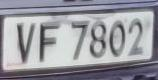0: (108, 16, 128, 63)
2: (127, 15, 147, 62)
7: (66, 19, 91, 65)
8: (87, 18, 110, 64)
F: (36, 19, 64, 67)
V: (12, 19, 38, 67)
